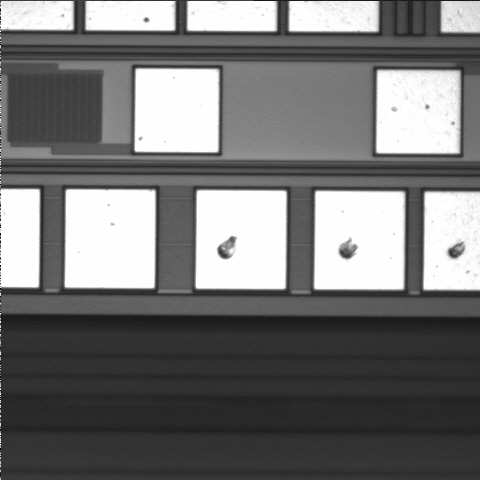pad: (314, 191, 405, 289), (65, 189, 155, 288), (196, 190, 286, 289), (135, 69, 219, 152), (376, 71, 460, 153)
